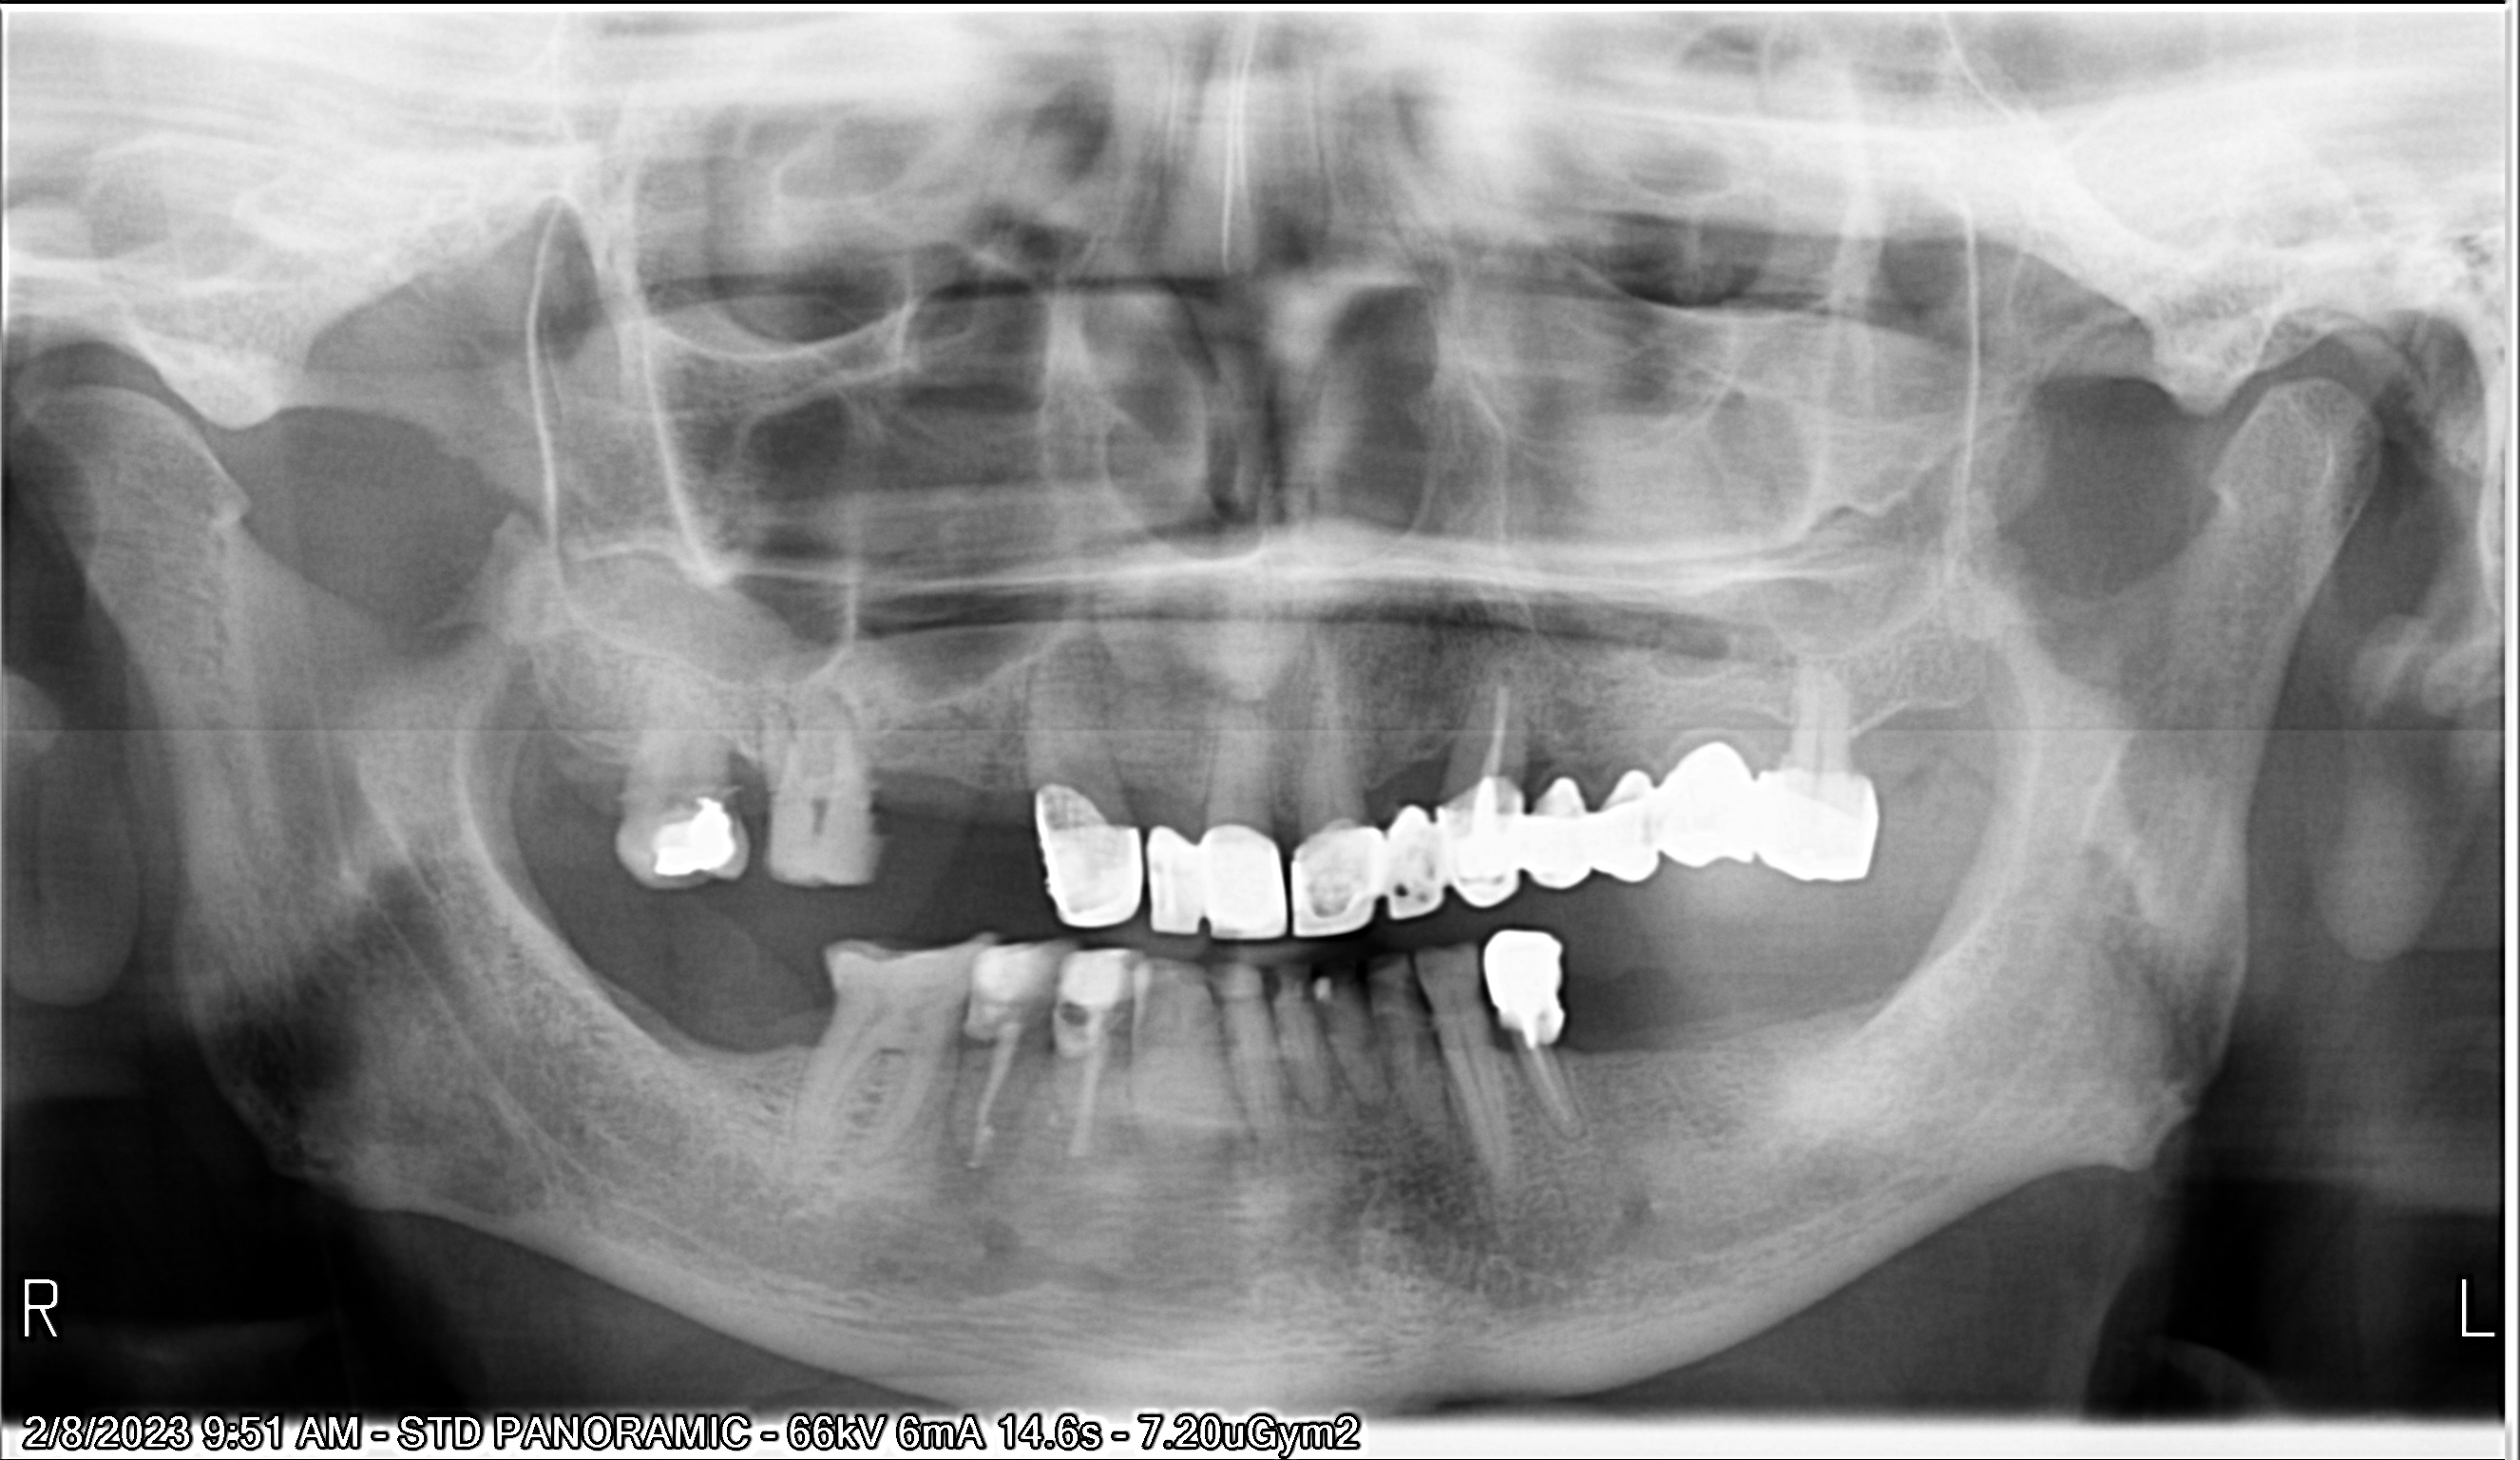END: (957, 1015, 1019, 1178), (1466, 662, 1523, 801), (1521, 1034, 1587, 1147), (1058, 1041, 1113, 1168)
OBT: (637, 780, 755, 893), (945, 935, 1033, 1045), (1047, 930, 1132, 1043)
PRR: (1290, 798, 1436, 942), (1527, 761, 1666, 902), (1025, 780, 1146, 937), (1143, 819, 1289, 942), (1749, 761, 1890, 888), (1436, 772, 1528, 918), (1473, 923, 1575, 1046), (1660, 727, 1747, 867)
